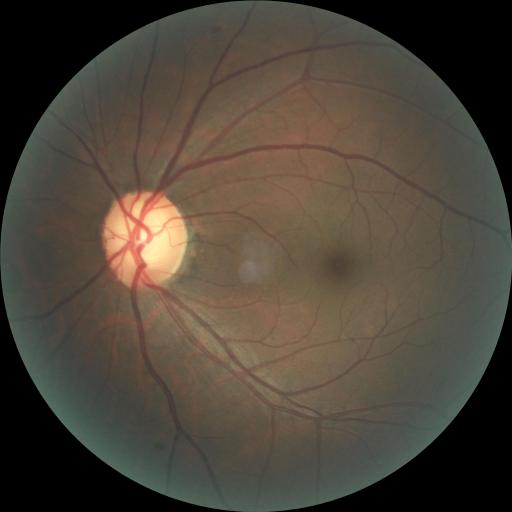Optic Cup: (121, 207, 169, 264)
Optic Disc: (102, 191, 188, 288)
